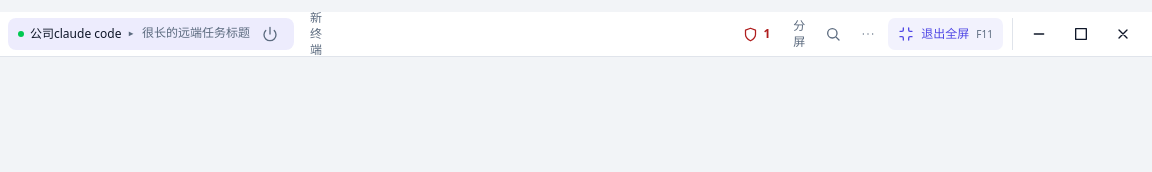
Test: 全屏只有一个退出入口和一组窗口控件，恢复普通模式时去掉专用窗口控件
expect the number of buttons named "关闭窗口" is 1: met, box [1102,18,1144,50]
Click the button with aria-label "退出终端全屏（F11）" at (946, 34), box [888,18,1003,50]
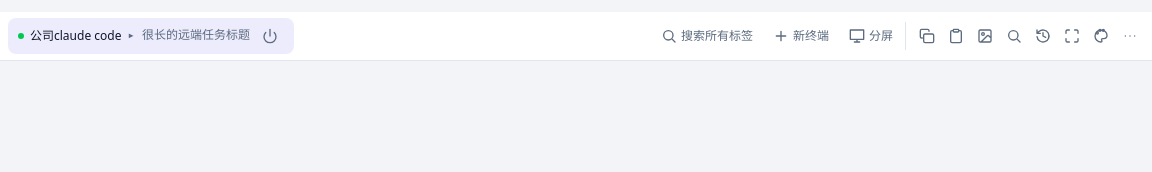
expect the element with class "terminal-fullscreen-window" is gone: met
expect the button with aria-label "搜索所有标签" is shown: met, box [653,24,761,48]
